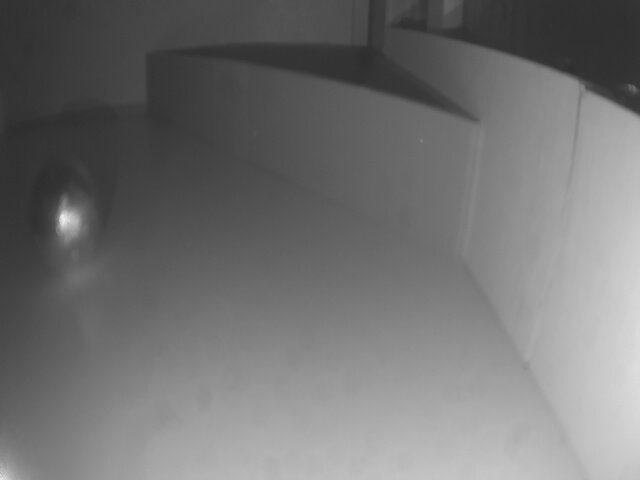Green: (141, 46, 468, 256)
